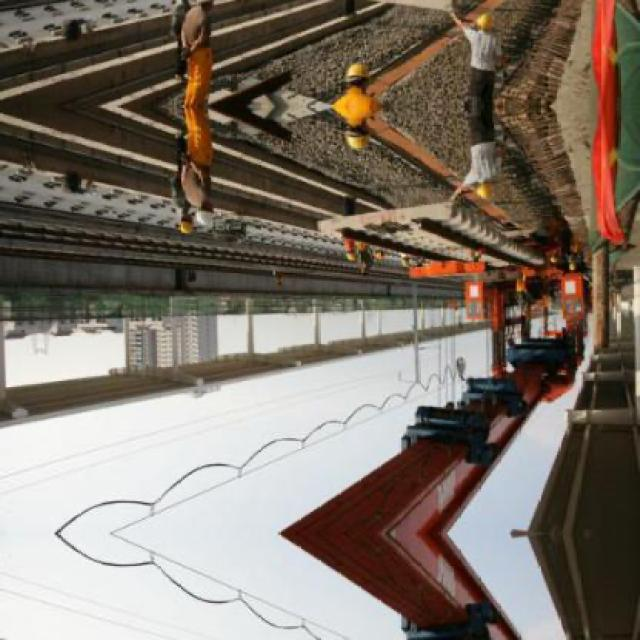con casco: (174, 203, 223, 244)
